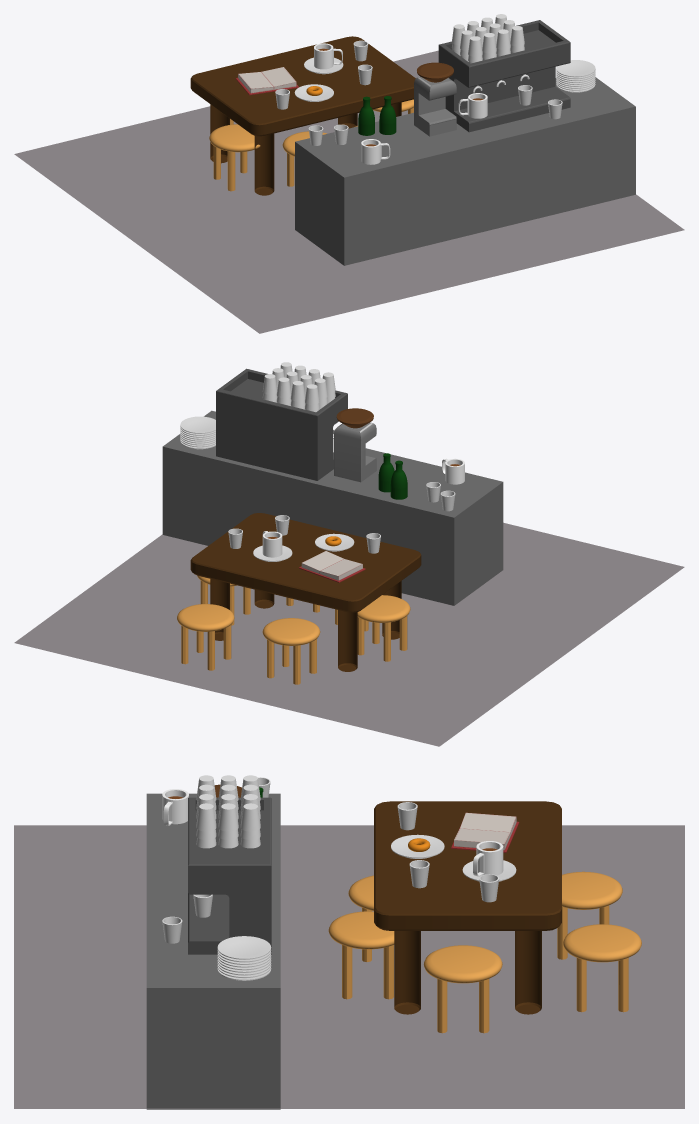
File: Coffee_ForRender.glb
The picture shows the model from 3 angles, top to bottom: view 1: azimuth 30°, elevation 25°; view 2: azimuth 150°, elevation 25°; view 3: azimuth 270°, elevation 25°; orthographic projection. The views are drawn at different scales.
Parts seen in each view (by area): view 1: Floor, Counter, Table.004, CoffeeMachine.001, Cube.001, TakeawayCupsStack, Table.003, Stool.003, Book, PlateStack, Stool.005, CoffeeCup.002 (+4 smaller); view 2: Floor, Counter, Table.004, CoffeeMachine.001, TakeawayCupsStack, Cube.001, Table.003, Stool.002, Stool, Stool.003, Book, PlateStack (+1 smaller); view 3: Floor, Counter, Table.004, CoffeeMachine.001, Table.003, TakeawayCupsStack, Stool.002, Stool.001, Stool.004, Stool, PlateStack, Book (+4 smaller).
Part boxes in pixels (left/top/right/bottom): Floor: left=14, top=50, right=684, bottom=333; Counter: left=295, top=77, right=635, bottom=265; Table.004: left=190, top=36, right=415, bottom=136; CoffeeMachine.001: left=438, top=20, right=570, bottom=132; Cube.001: left=414, top=62, right=456, bottom=136; TakeawayCupsStack: left=452, top=14, right=524, bottom=63; Table.003: left=210, top=102, right=401, bottom=195; Stool.003: left=209, top=124, right=260, bottom=191; Book: left=235, top=67, right=298, bottom=95; PlateStack: left=556, top=60, right=595, bottom=92; Stool.005: left=282, top=131, right=326, bottom=186; CoffeeCup.002: left=361, top=139, right=390, bottom=164; Floor: left=14, top=522, right=684, bottom=746; Counter: left=162, top=410, right=503, bottom=605; Table.004: left=190, top=513, right=421, bottom=612; CoffeeMachine.001: left=216, top=368, right=347, bottom=480; TakeawayCupsStack: left=262, top=362, right=335, bottom=412; Cube.001: left=334, top=408, right=376, bottom=482; Table.003: left=210, top=579, right=401, bottom=671; Stool.002: left=177, top=604, right=234, bottom=670; Stool: left=262, top=618, right=320, bottom=684; Stool.003: left=357, top=595, right=410, bottom=661; Book: left=299, top=551, right=365, bottom=582; PlateStack: left=180, top=416, right=215, bottom=449; Floor: left=14, top=825, right=684, bottom=1108; Counter: left=146, top=793, right=280, bottom=1109; Table.004: left=374, top=801, right=561, bottom=930; CoffeeMachine.001: left=188, top=797, right=271, bottom=954; Table.003: left=394, top=931, right=541, bottom=1014; TakeawayCupsStack: left=196, top=775, right=260, bottom=848; Stool.002: left=563, top=924, right=641, bottom=1012; Stool.001: left=423, top=945, right=502, bottom=1033; Stool.004: left=328, top=911, right=394, bottom=999; Stool: left=557, top=871, right=622, bottom=959; PlateStack: left=217, top=936, right=271, bottom=980; Book: left=451, top=812, right=519, bottom=852.
Size of the model in its own units: 10 by 3.93 by 10.
Materials: 14 (5 with a texture image).
